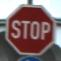Stop sign: (0, 0, 60, 60)
